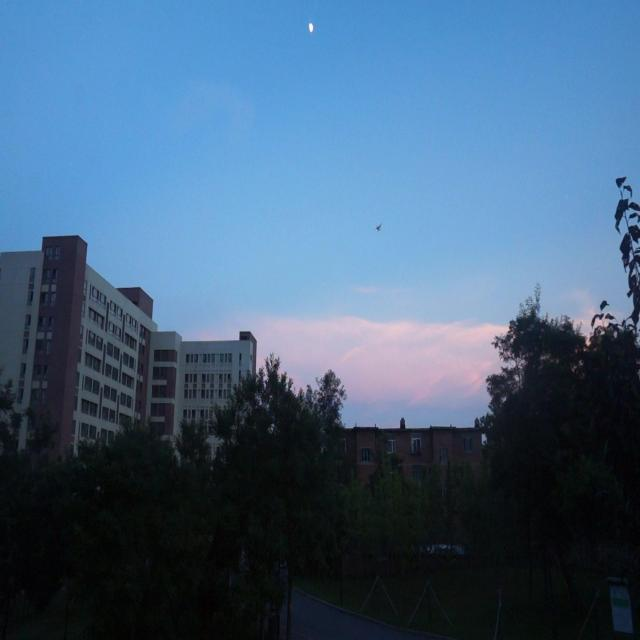UAV: (375, 223, 381, 232)
